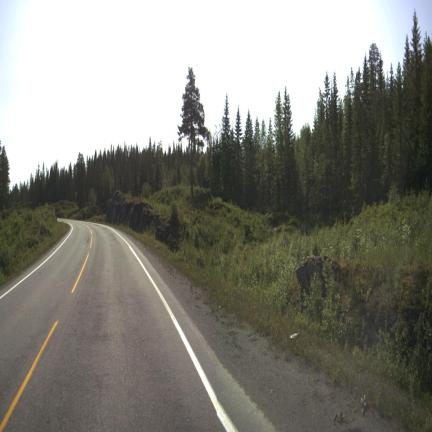Road: (0, 221, 273, 430)
